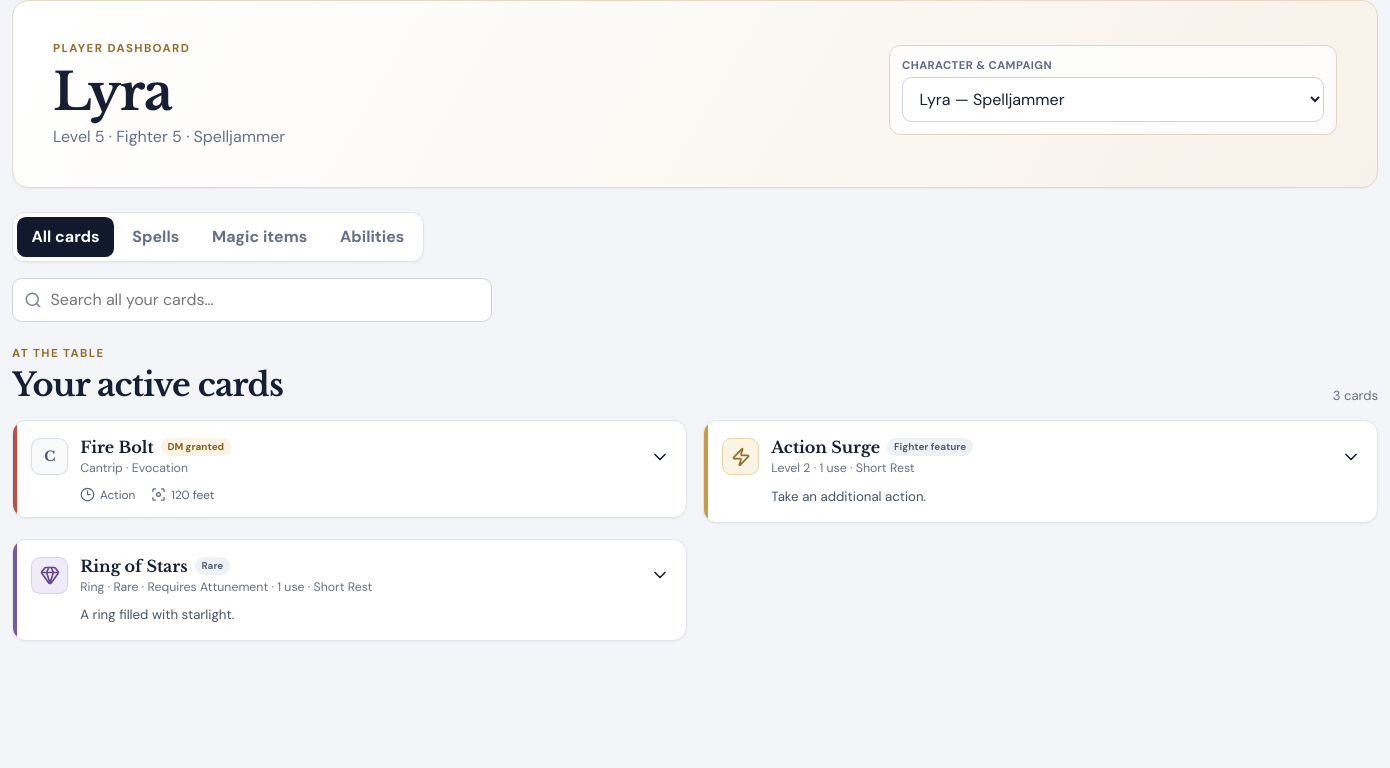
Test case: PlayerDashboard card search › switches between characters and campaigns on one account
The image size is (1390, 768).
Select "Keth — Tomb of Annihilation" in the dropdown named "Character and campaign" at {"x": 1113, "y": 99}, box [902,77,1324,122]
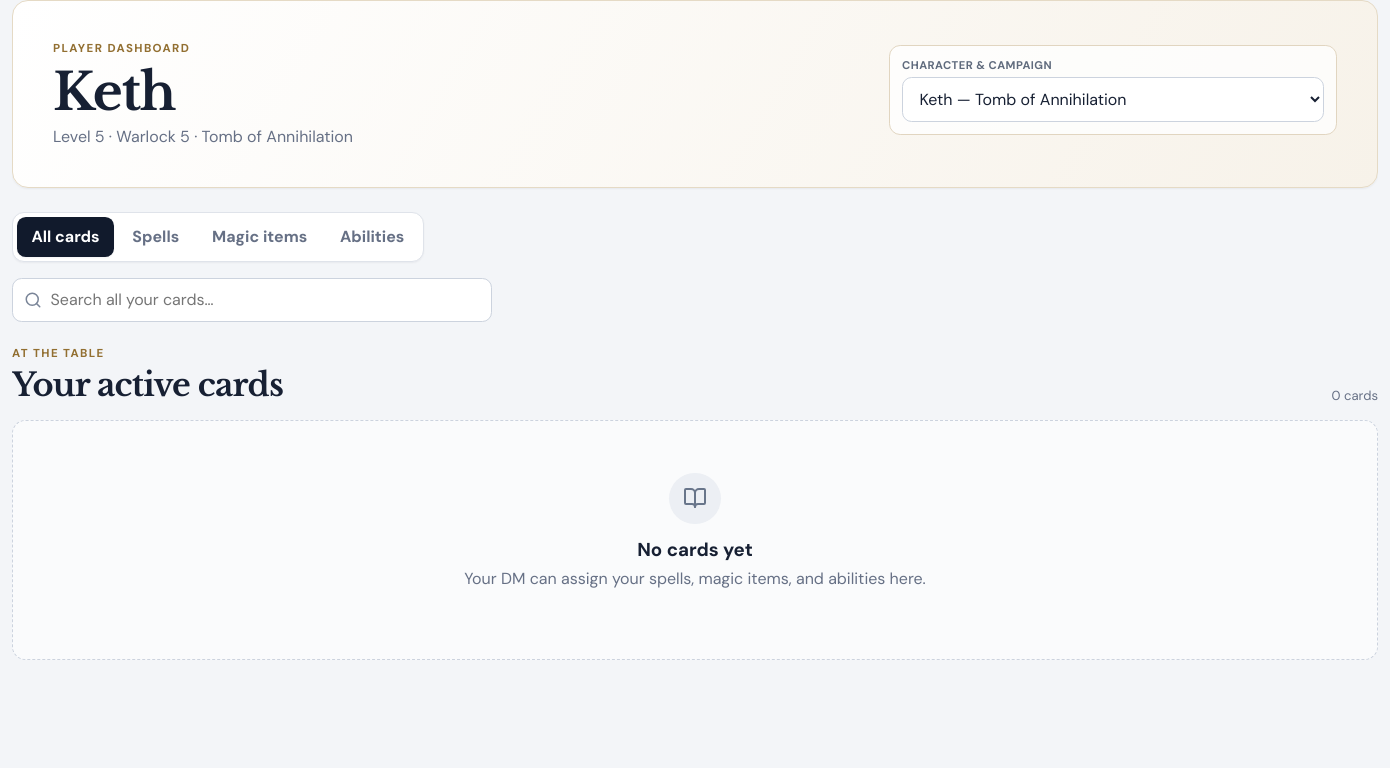
Result: the heading "Keth" is shown at [53,60,175,124]
